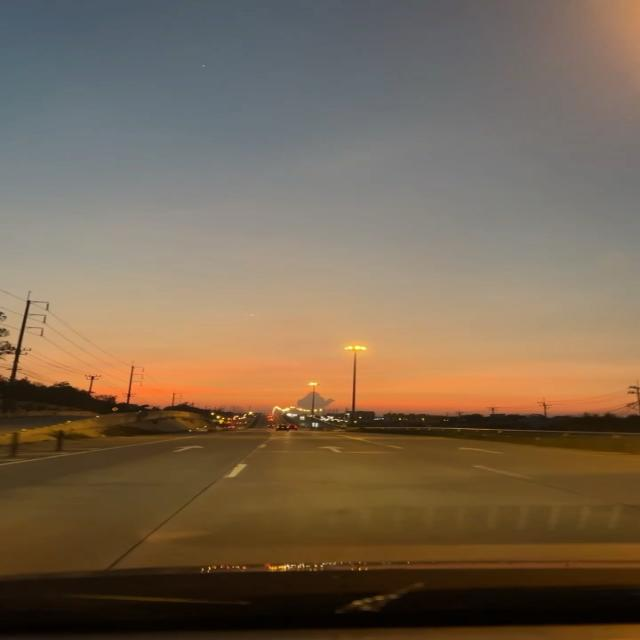Poth-hole: (119, 451, 596, 517)
